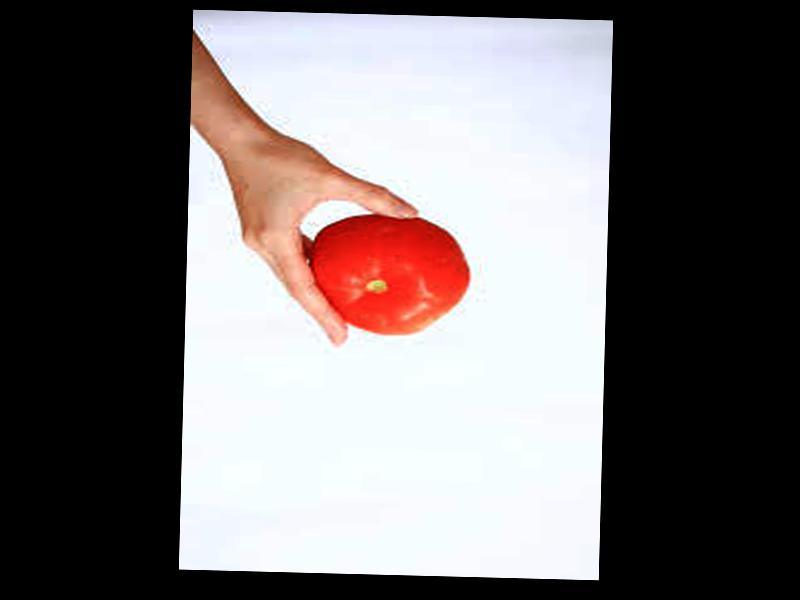Tomato: (312, 213, 470, 337)
